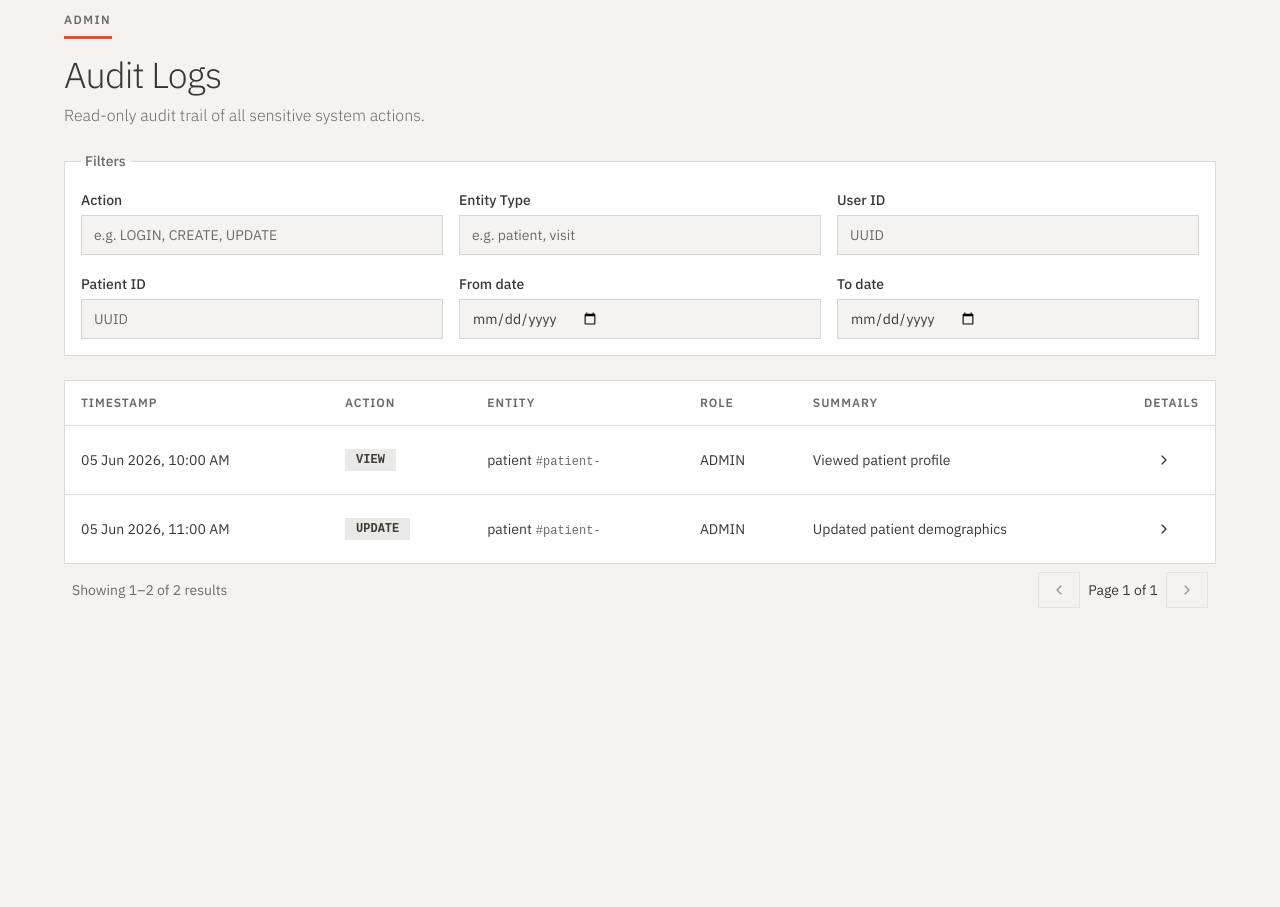
Test: AuditLogsPage — detail panel › expands entry detail panel when chevron button is clicked
This screenshot has width=1280, height=907.
Expected: the text "Updated patient demographics" is shown, top-left (813, 520), bottom-right (1007, 538)
Click the button named "view entry details" in the row of "05 Jun 2026, 11:00 AM" at [1164, 528], box top-left (1144, 510), bottom-right (1184, 546)
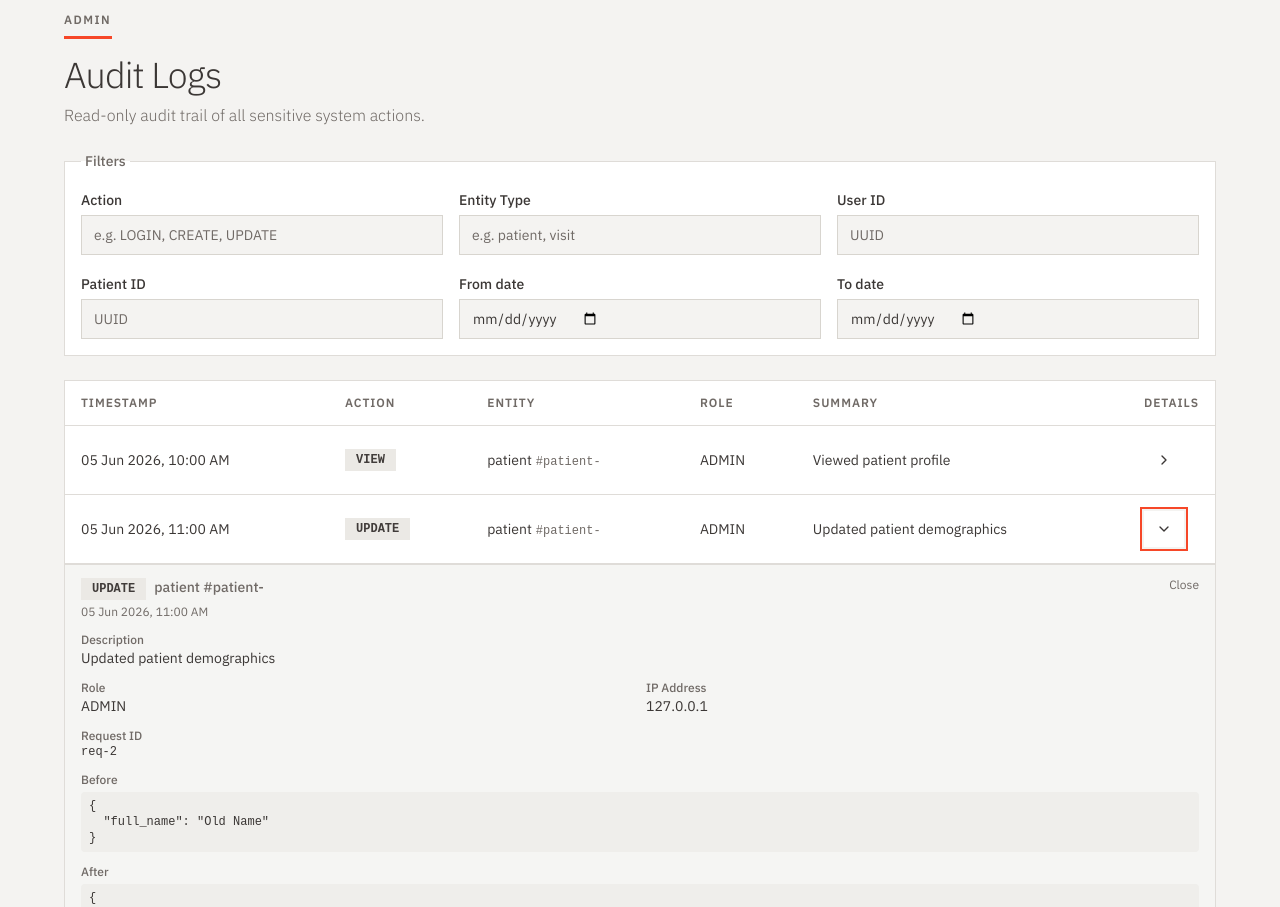
Expected: the text "Before" is shown, top-left (81, 772), bottom-right (118, 786)
Expected: the text "After" is shown, top-left (81, 864), bottom-right (109, 878)
